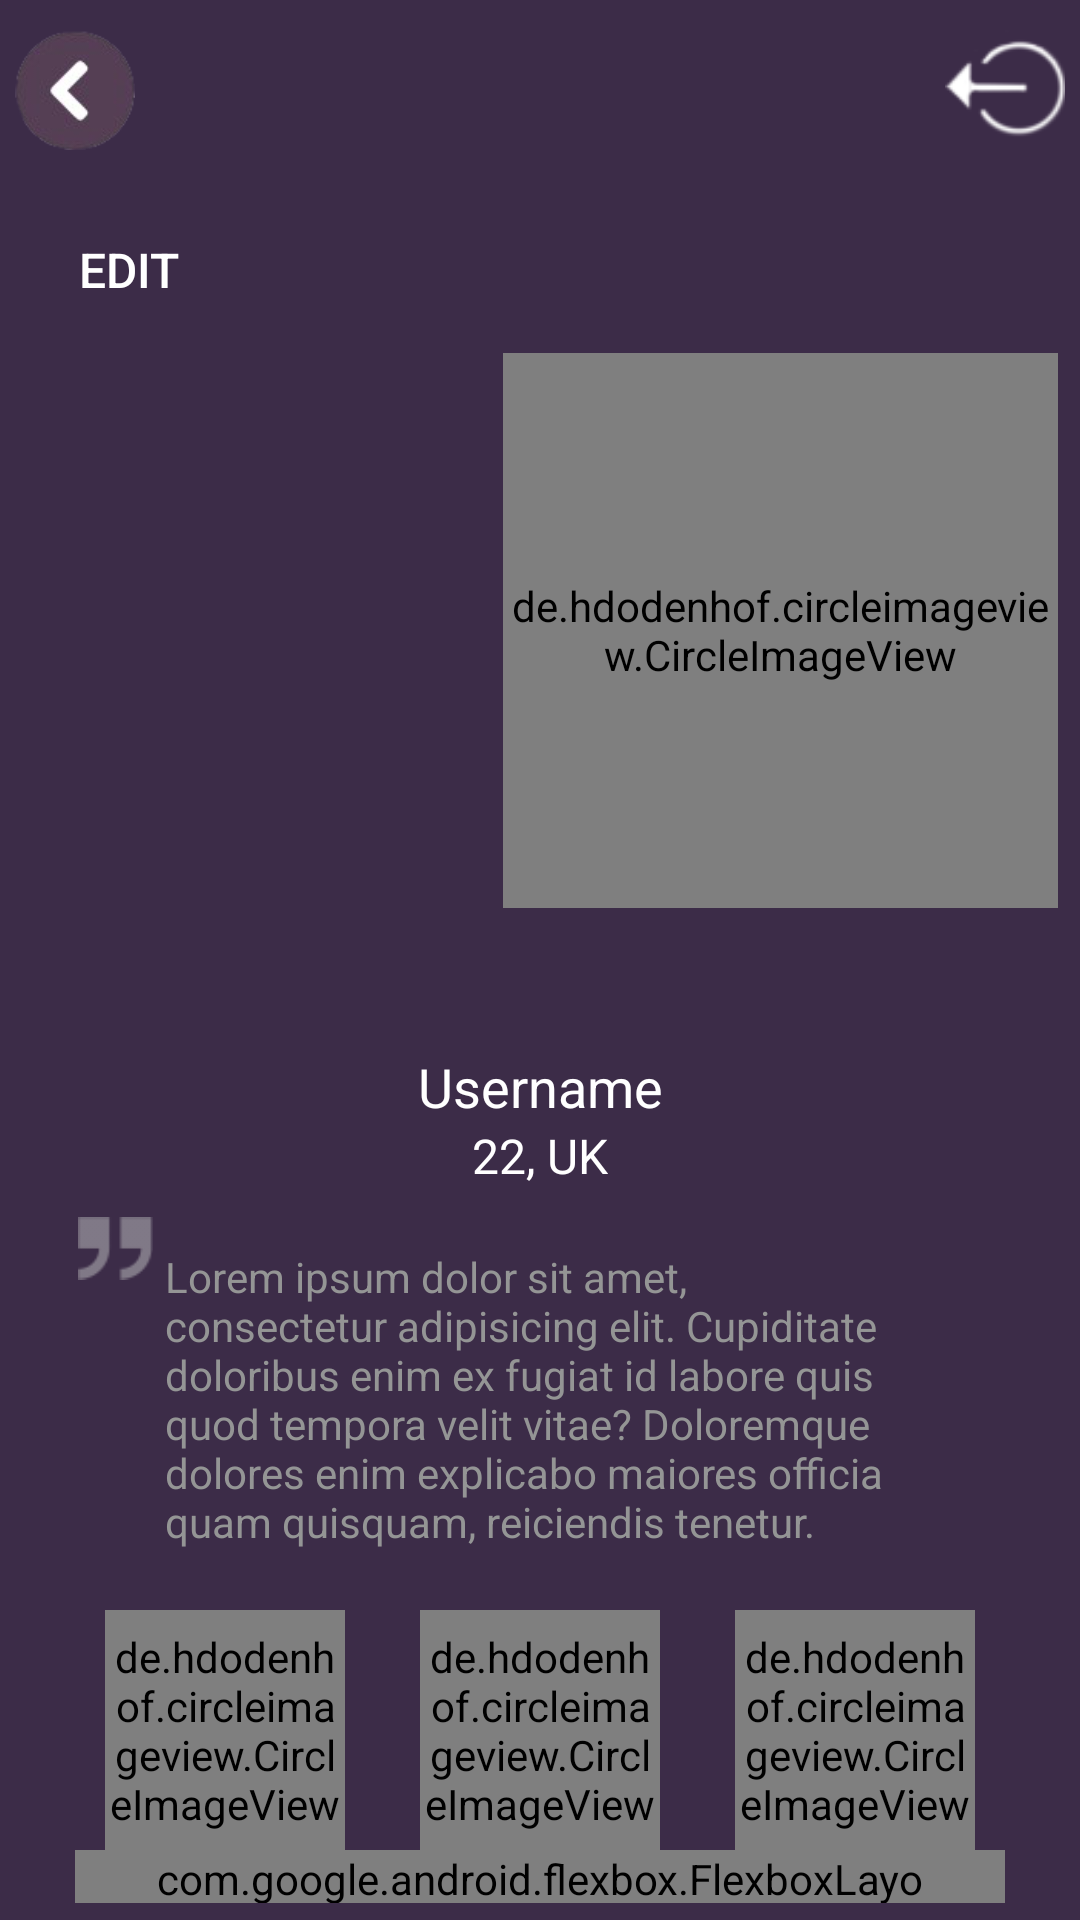

Icon click points for this 1080px×1920px phone screenshot, format (x,y):
back: (76,91)
